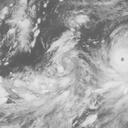cyclone: (98, 31, 127, 124)
